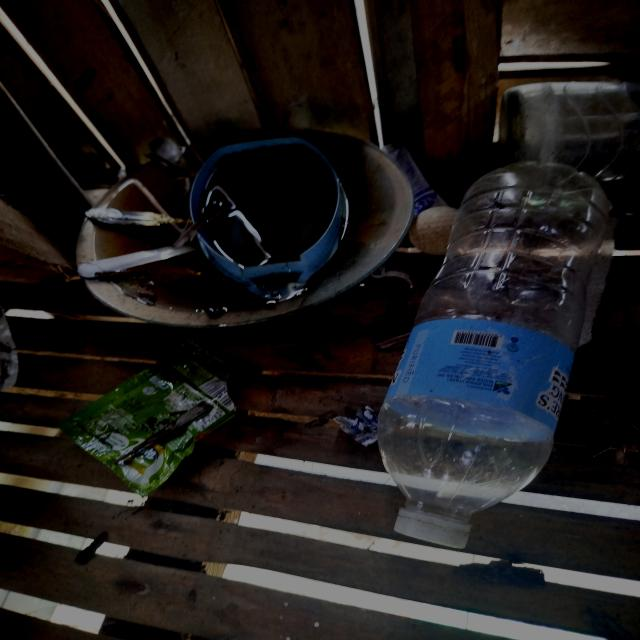plastic: (358, 162, 620, 554)
residual: (54, 342, 254, 516)
